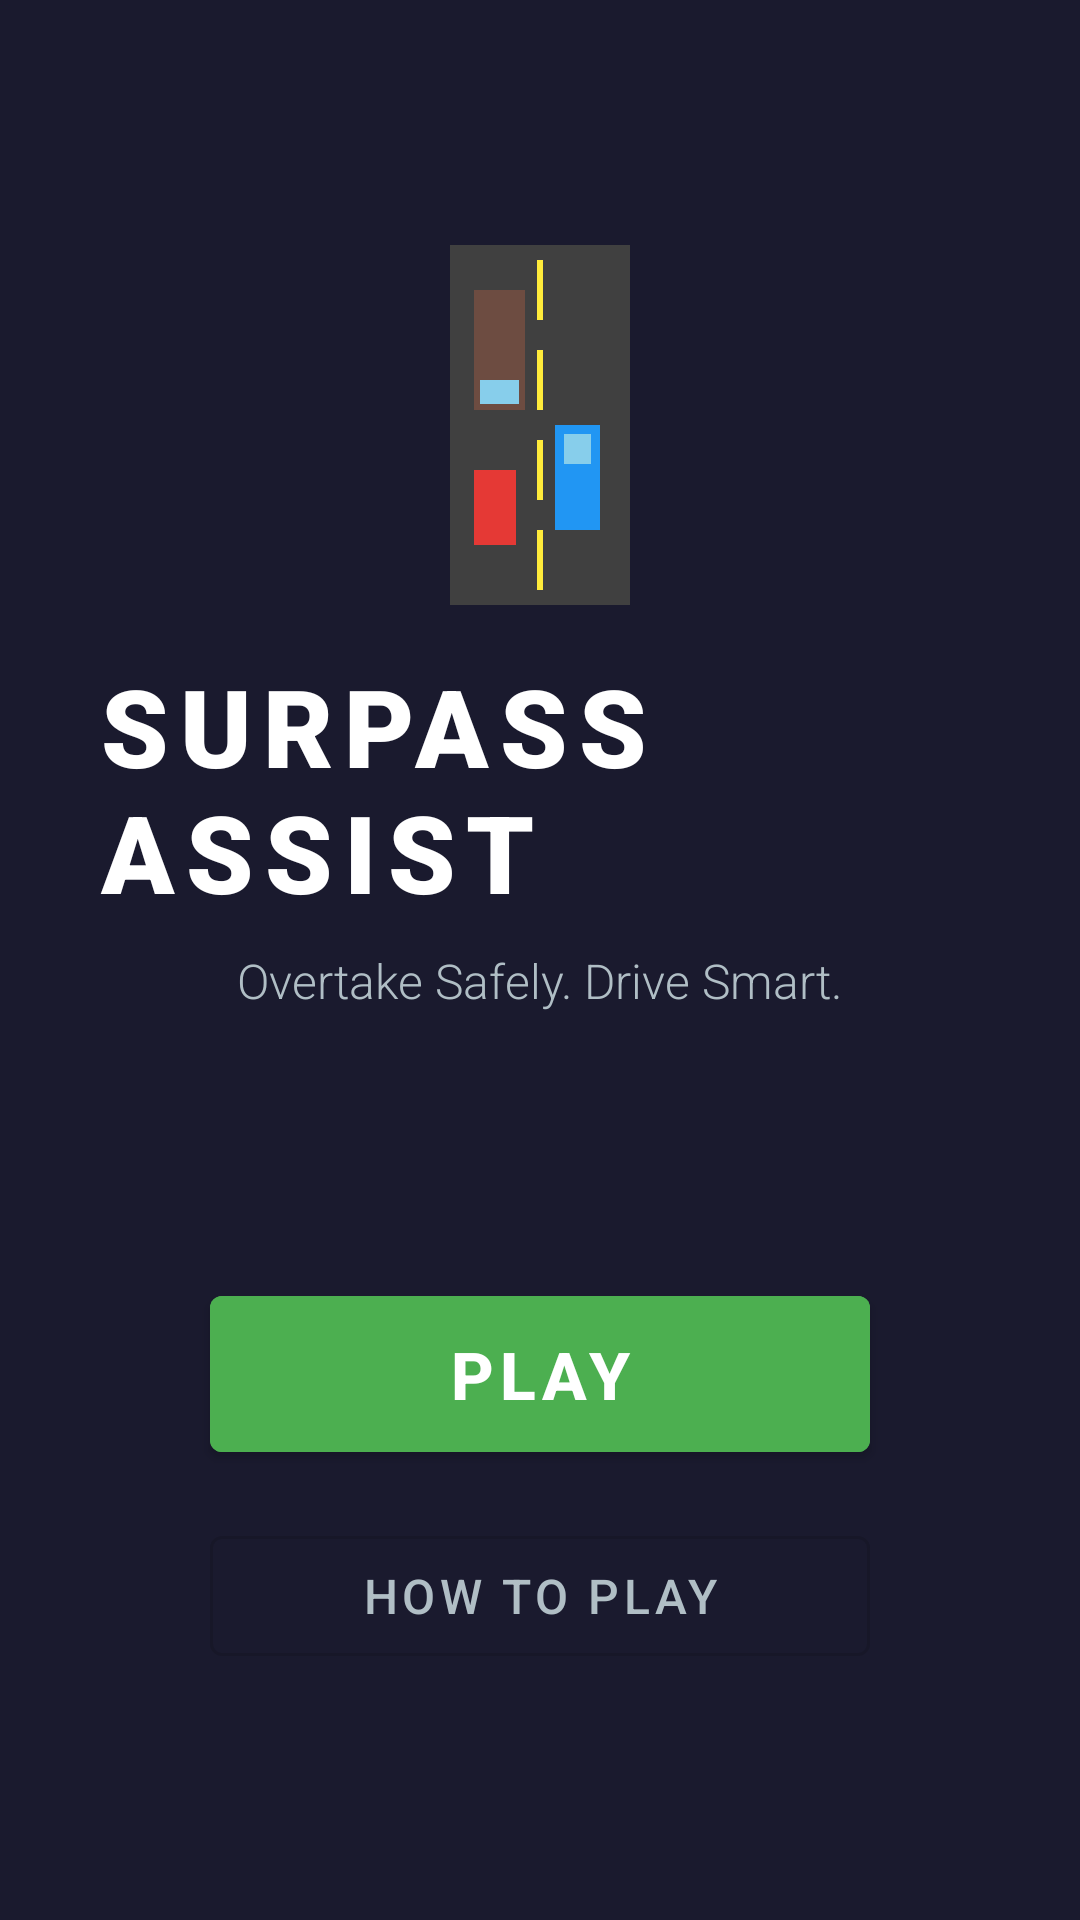

Where icons sit on this 1080px x 1920px app screen, as [x1,y1,x2,y2]:
Game icon: [450,245,630,605]
